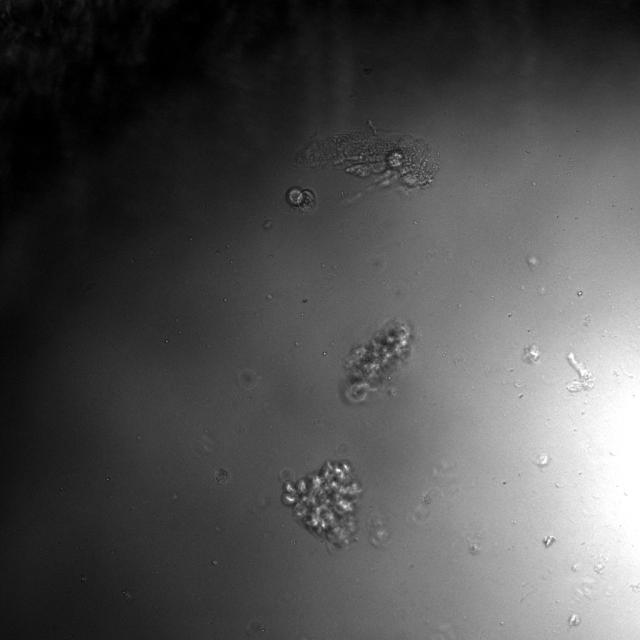organoid: (295, 125, 438, 190), (279, 459, 362, 548), (344, 319, 412, 401), (286, 185, 316, 213)
